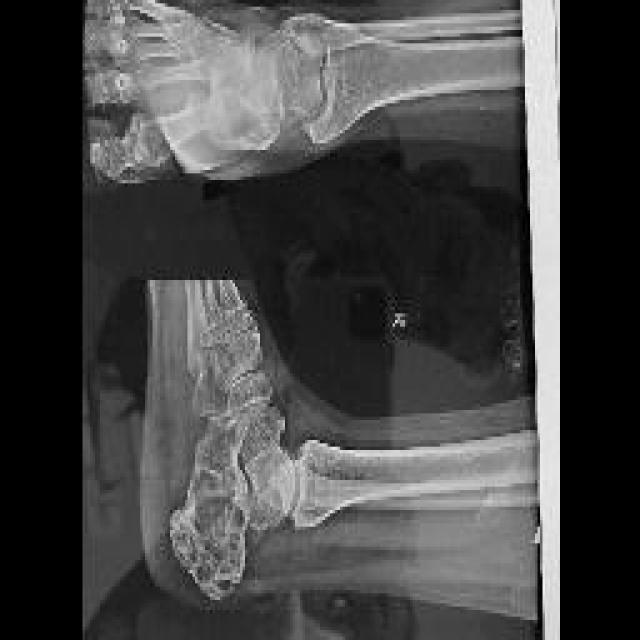bone-cancer: (171, 441, 251, 593)
